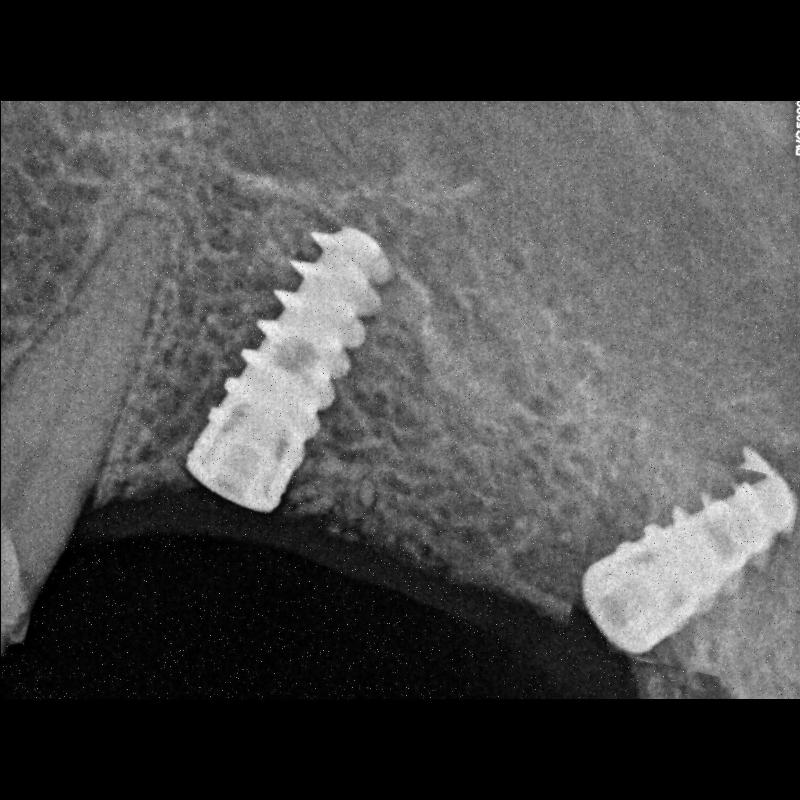ADIN: (179, 232, 395, 528), (574, 448, 794, 676)
